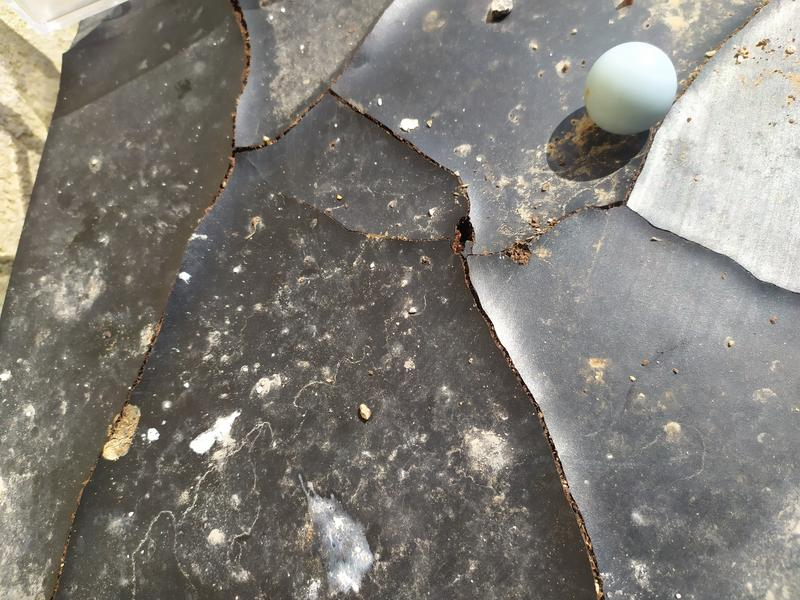Warning: (581, 40, 681, 138)
